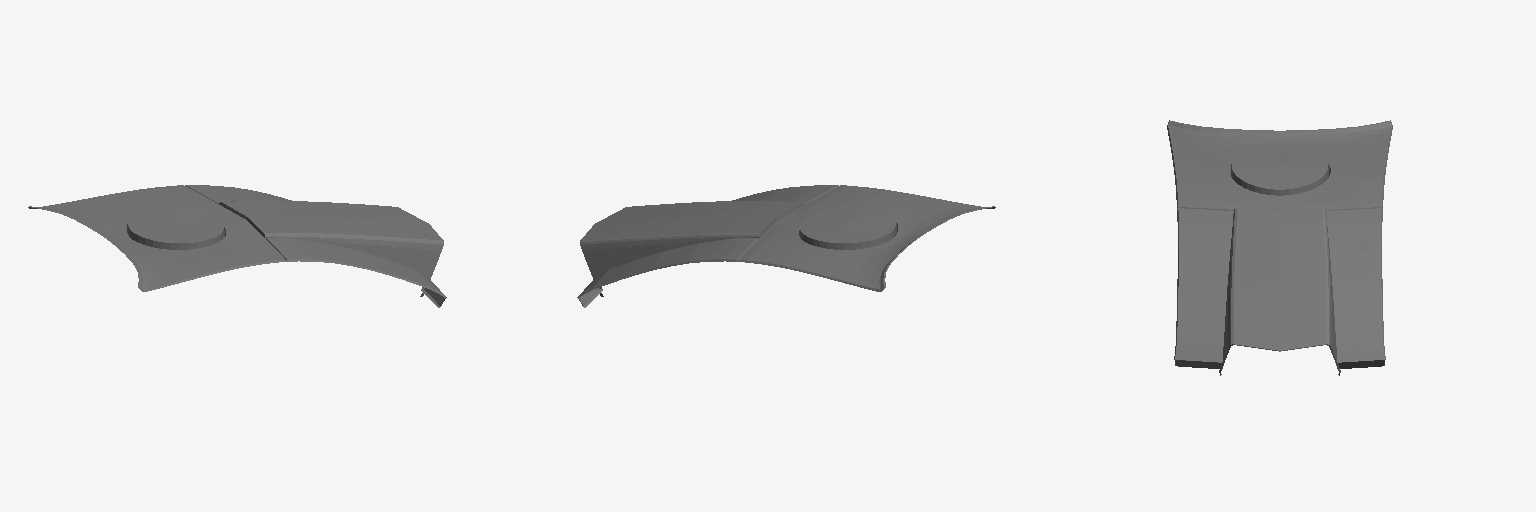
The model's file is incredimovil_cofre.obj.
The picture shows the model from 3 angles: view 1: azimuth 30°, elevation 25°; view 2: azimuth 150°, elevation 25°; view 3: azimuth 270°, elevation 25°; orthographic projection.
Visible parts, largest first — view 1: Cofre; view 2: Cofre; view 3: Cofre.
Boxes of the visible parts, x1=… form: Cofre: x1=28, y1=185, x2=446, y2=307; Cofre: x1=577, y1=185, x2=995, y2=307; Cofre: x1=1167, y1=120, x2=1392, y2=375.
Size of the model in its own units: 19.96 by 5.83 by 11.25.